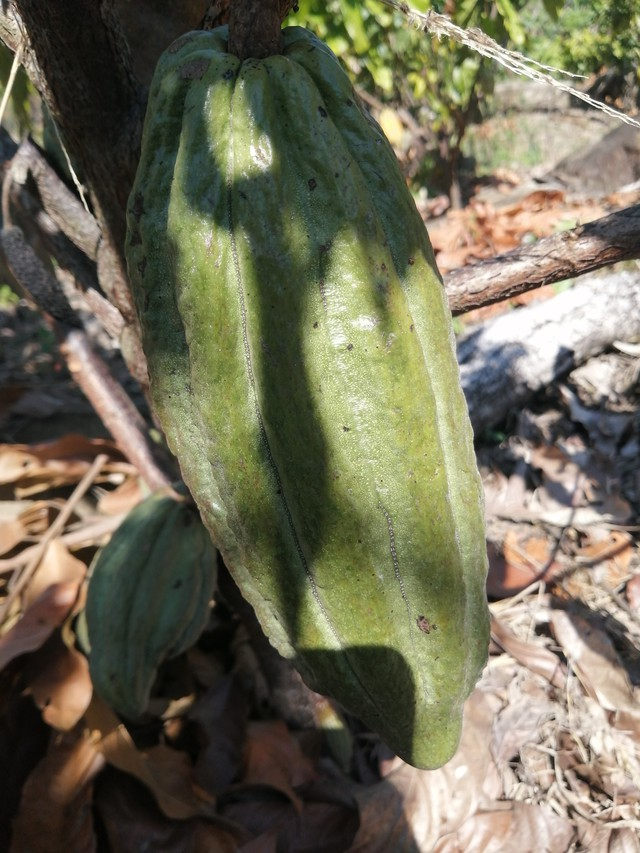Health: (113, 13, 511, 782)
